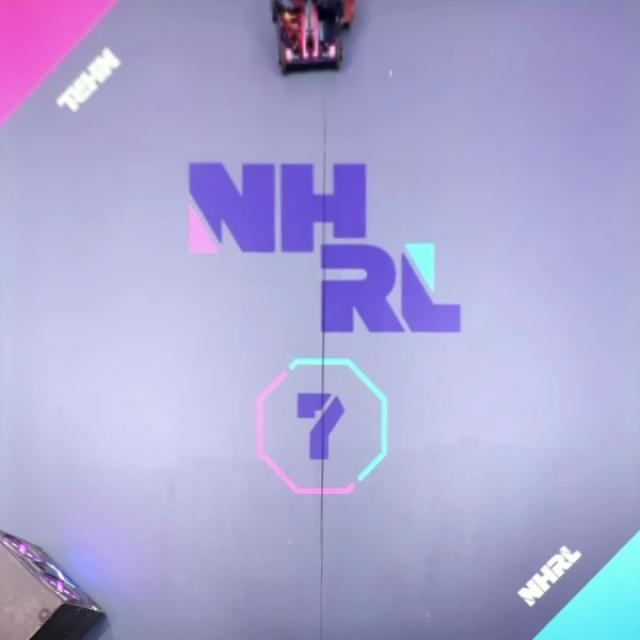housebot: (0, 528, 107, 640)
robot: (270, 0, 344, 77)
